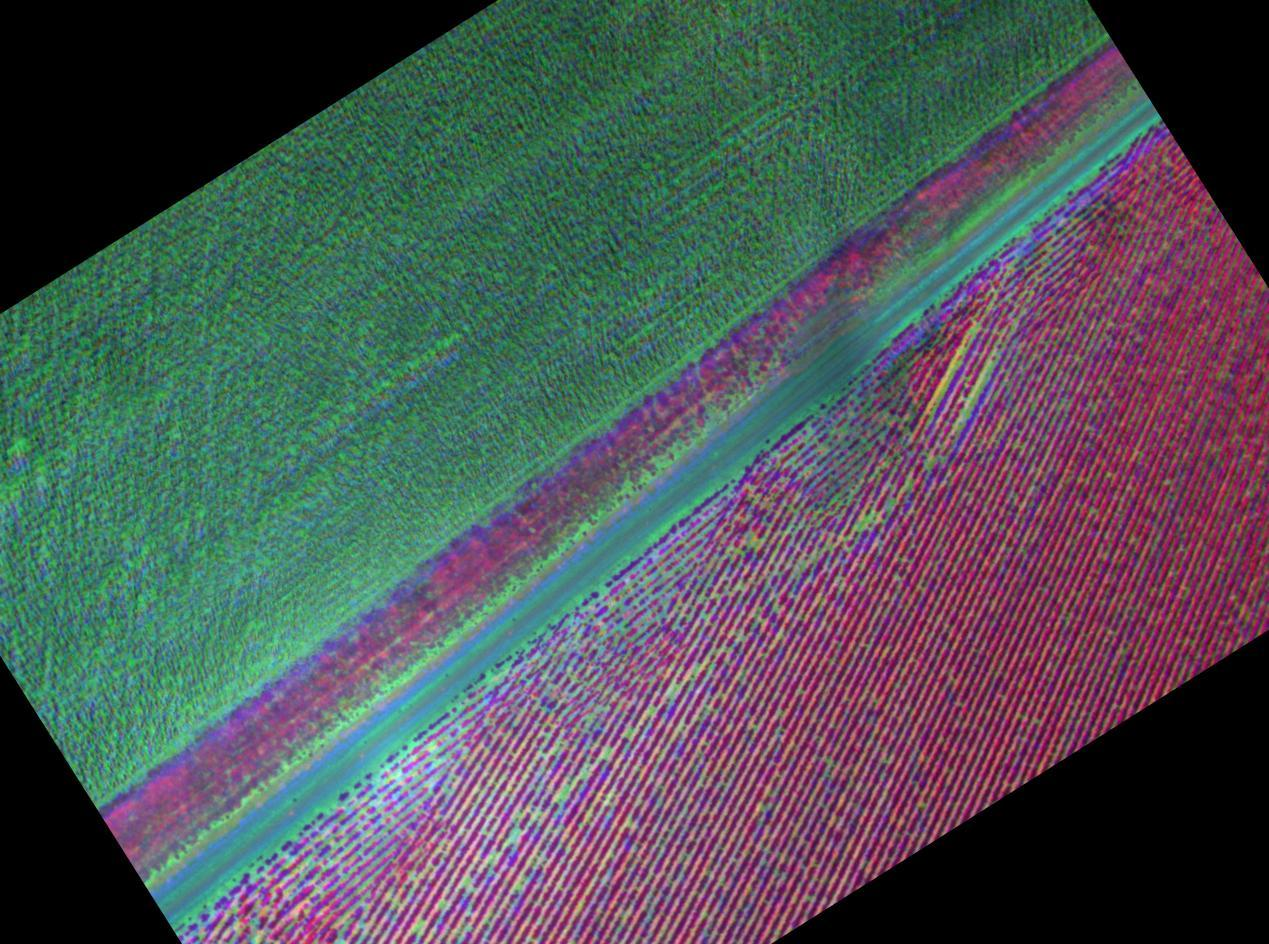dc: (559, 790, 568, 798), (972, 386, 980, 393), (511, 832, 518, 840), (417, 925, 425, 932), (858, 518, 863, 527), (628, 729, 633, 737), (984, 372, 990, 378), (649, 707, 654, 714), (962, 414, 970, 418), (930, 457, 935, 463), (627, 820, 632, 825)
